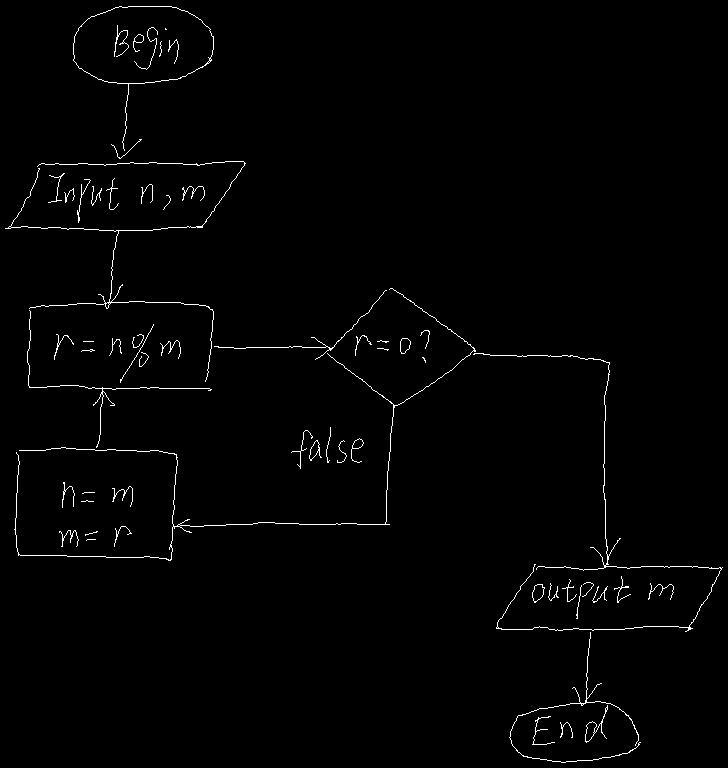arrow: (473, 353, 620, 566), (174, 405, 394, 532), (214, 337, 330, 359), (111, 83, 141, 158), (572, 632, 601, 705), (98, 230, 122, 308), (93, 387, 114, 447)
data: (5, 161, 245, 231), (496, 564, 722, 631)
decision: (327, 288, 475, 407)
process: (14, 447, 177, 560), (27, 301, 213, 390)
terminator: (73, 6, 213, 83), (509, 701, 640, 762)
text: (48, 173, 204, 222), (54, 324, 180, 382), (532, 576, 673, 618), (59, 482, 132, 546), (291, 427, 363, 468), (532, 705, 607, 744), (114, 25, 178, 69), (355, 330, 429, 362)
